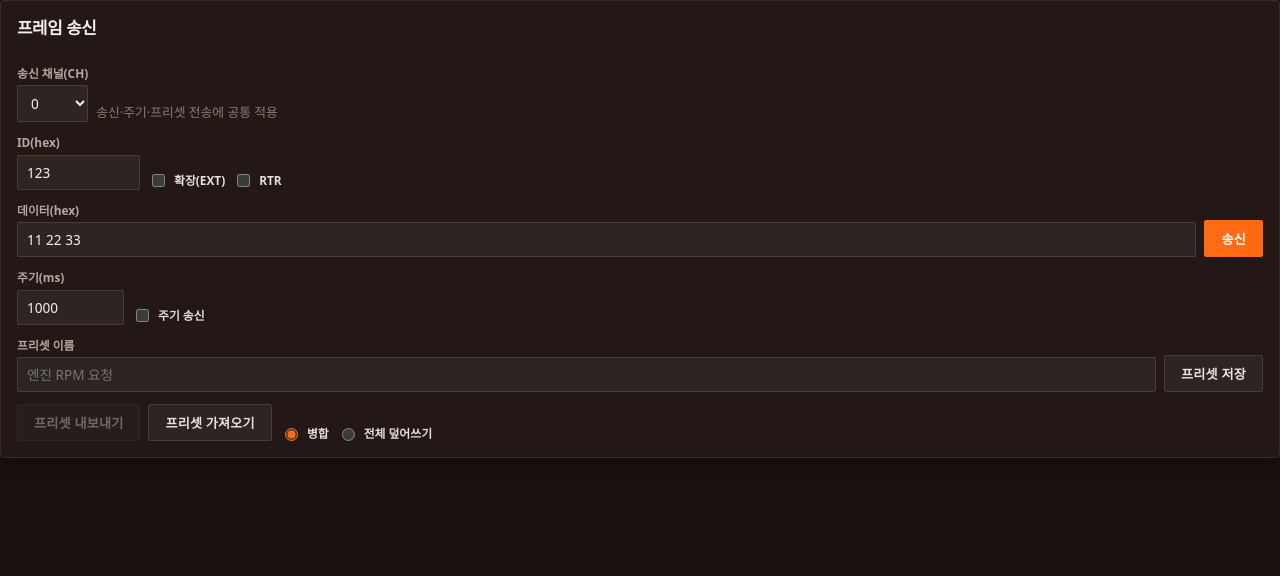
Test: 프리셋 이름 변경(인라인 편집) › 이름 변경 버튼 → input 으로 바뀌고 Enter 로 새 이름이 커밋된다(값은 보존)
Replace the text in the field labelled "ID(hex)" with "111" at point(78, 172), box top-left (17, 155), bottom-right (140, 190)
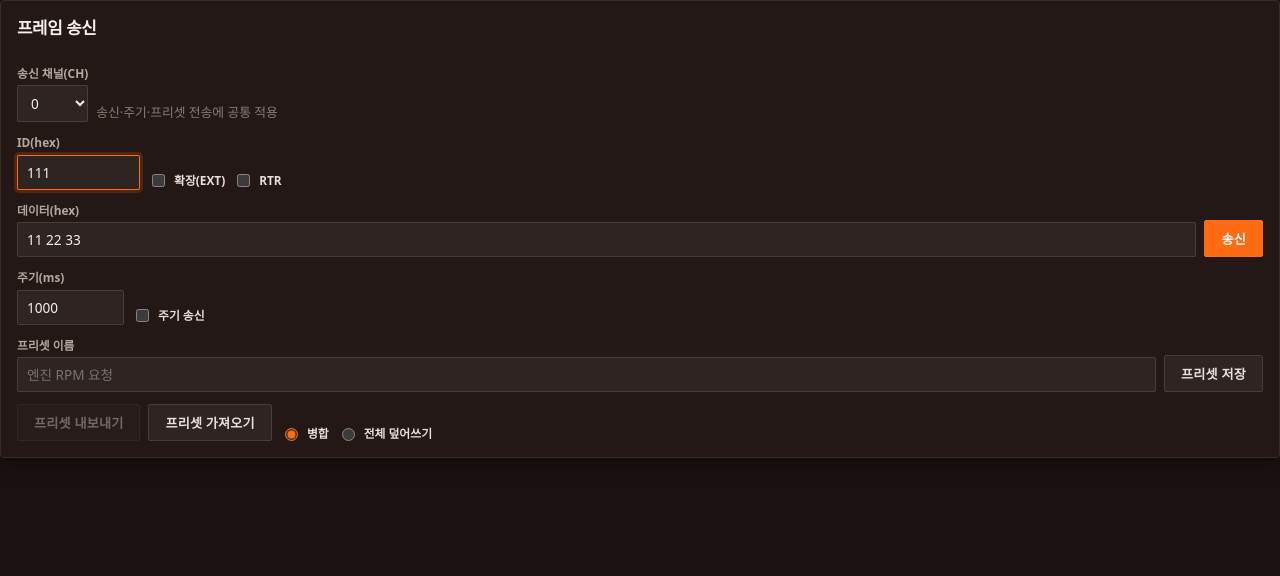
Type "엔진" into the field with placeholder "엔진 RPM 요청" at point(587, 375), box top-left (17, 357), bottom-right (1156, 392)
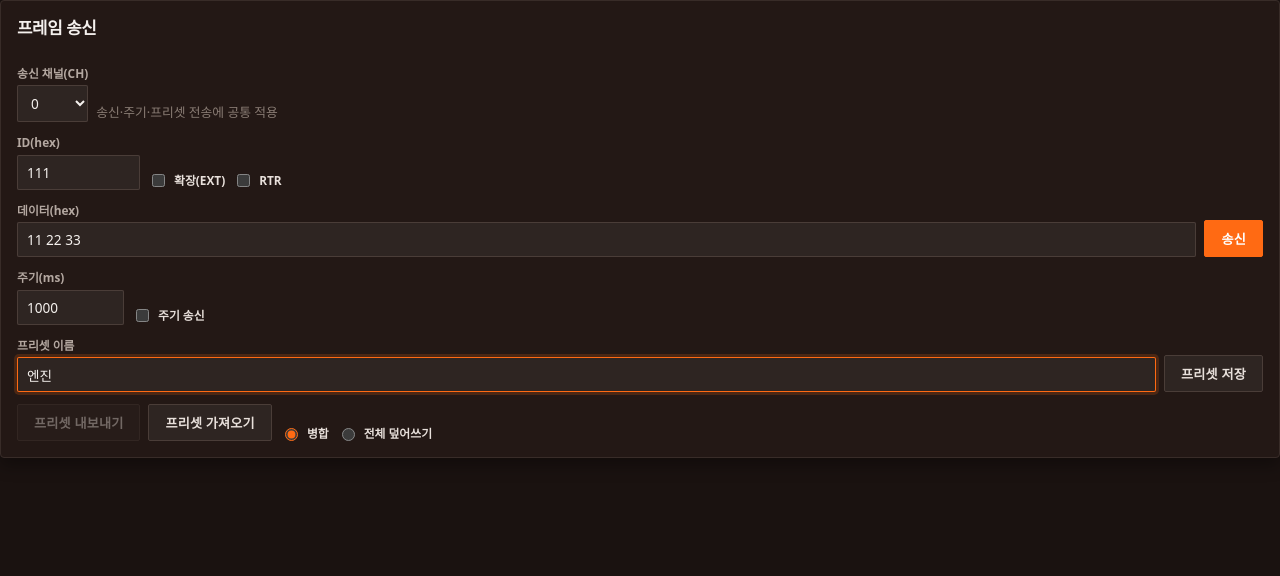
Click the button "프리셋 저장" at point(1214, 374), box top-left (1164, 355), bottom-right (1263, 392)
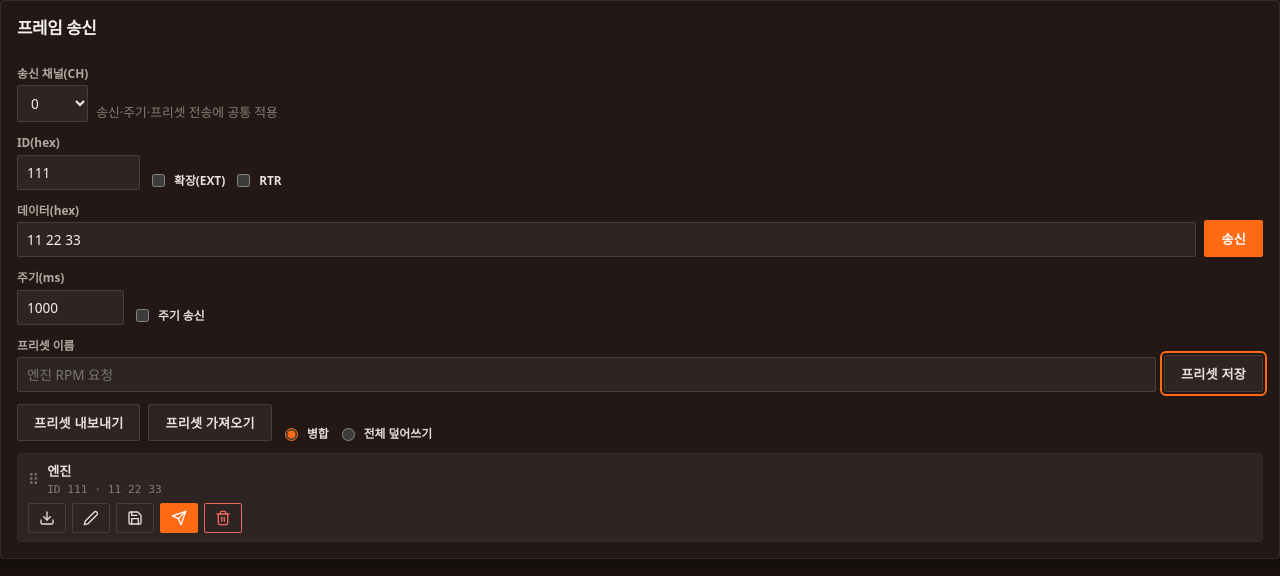
Click the button named "이름 변경" at point(91, 518), box top-left (72, 504), bottom-right (110, 534)
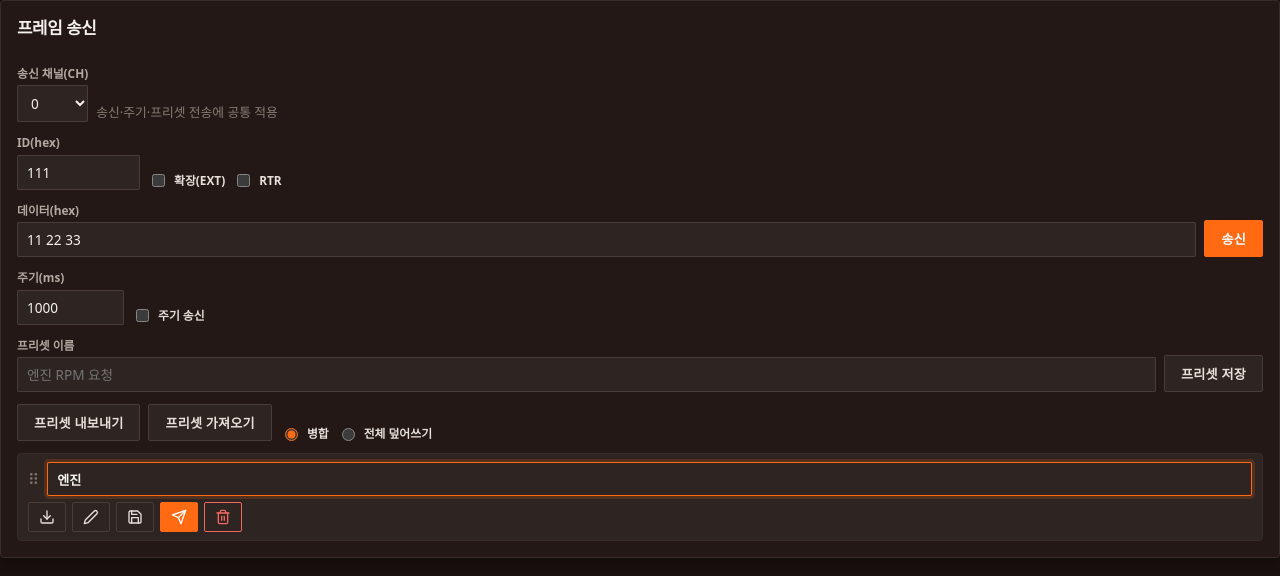
Replace the text in the field named "엔진 이름 변경" with "엔진RPM" at point(650, 479), box top-left (47, 462), bottom-right (1252, 496)
Then press Enter
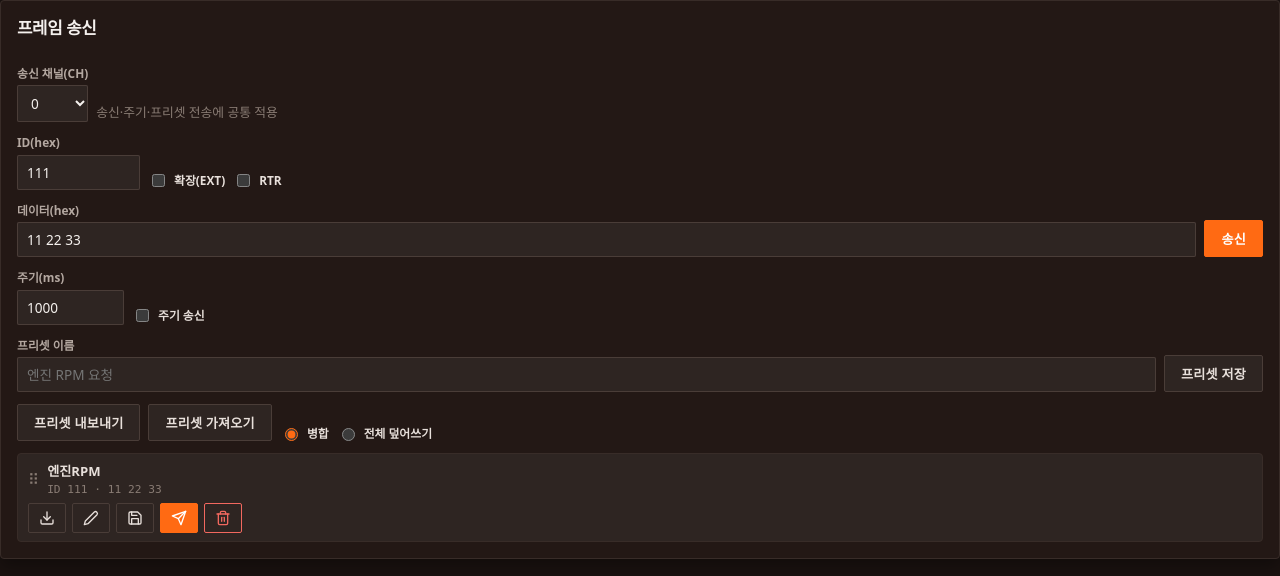
Expected: the text "엔진RPM" is shown, top-left (47, 462), bottom-right (100, 480)
